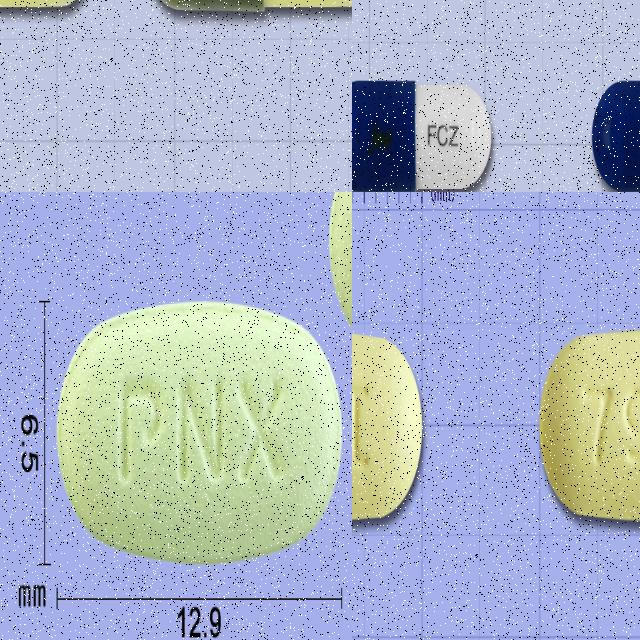Oneflu Cap: (352, 78, 493, 192), (591, 80, 640, 192)
Piclo Tab: (58, 304, 342, 560)
Sporanox Cap: (540, 332, 640, 522), (352, 332, 423, 522)
